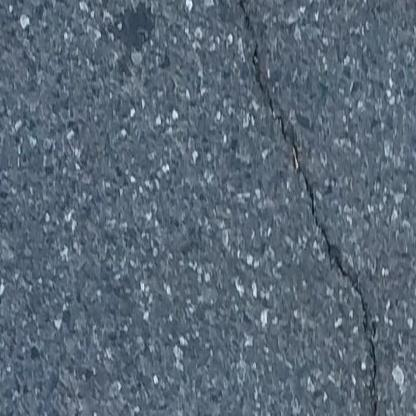Cracks: (232, 0, 383, 416)
